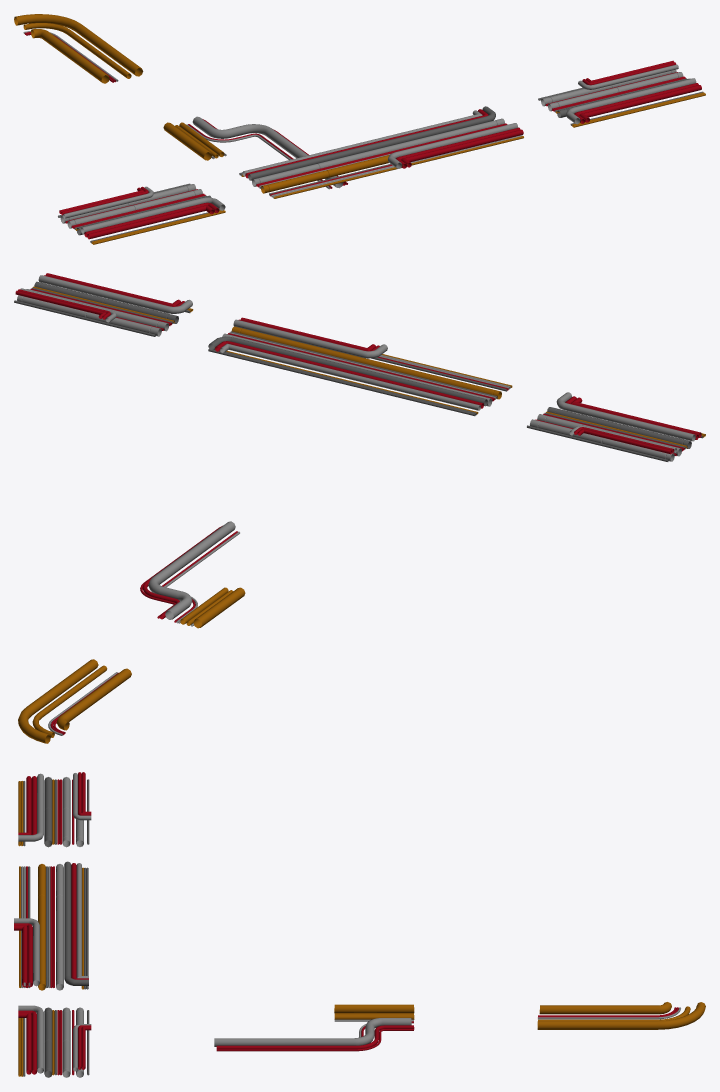
3 views of the same model, one above another, from view 1: azimuth 30°, elevation 25°; view 2: azimuth 150°, elevation 25°; view 3: azimuth 270°, elevation 25° (orthographic). The views are drawn at different scales.
Visible parts, largest first — view 1: SM_H_Building_FutureTech_HBlue_01_InterWall_12B; view 2: SM_H_Building_FutureTech_HBlue_01_InterWall_12B; view 3: SM_H_Building_FutureTech_HBlue_01_InterWall_12B.
Boxes of the visible parts, left/top/right/bottom form: SM_H_Building_FutureTech_HBlue_01_InterWall_12B: left=14, top=14, right=705, bottom=244; SM_H_Building_FutureTech_HBlue_01_InterWall_12B: left=14, top=273, right=705, bottom=743; SM_H_Building_FutureTech_HBlue_01_InterWall_12B: left=14, top=772, right=705, bottom=1077.
Bounding box in the file's own units: 997 × 1004 × 173.
